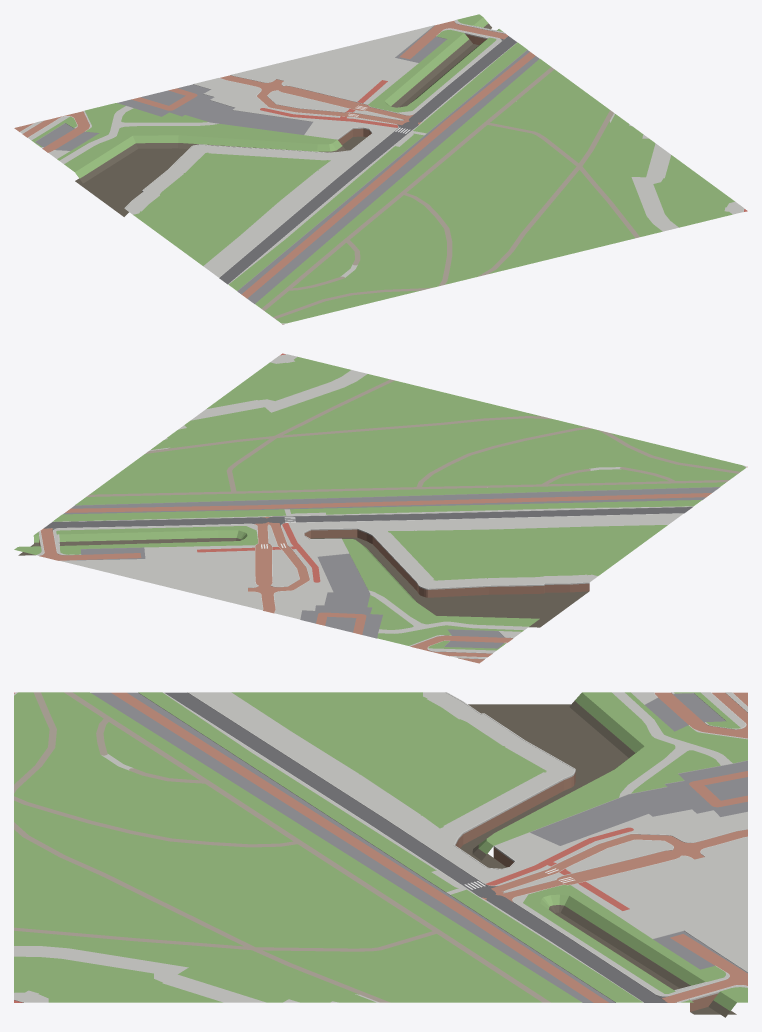
File: ground_5_12.glb
The picture shows the model from 3 angles, top to bottom: view 1: azimuth 30°, elevation 25°; view 2: azimuth 150°, elevation 25°; view 3: azimuth 270°, elevation 25°; orthographic projection. The views are drawn at different scales.
Visible parts, largest first — view 1: ground_5_12; view 2: ground_5_12; view 3: ground_5_12.
Part boxes in pixels (box(x1,y1,x2,y2)): ground_5_12: box(14, 14, 747, 324); ground_5_12: box(14, 353, 747, 663); ground_5_12: box(14, 692, 747, 1017).
Bounding box in the file's own units: 202 × 3.68 × 200.
